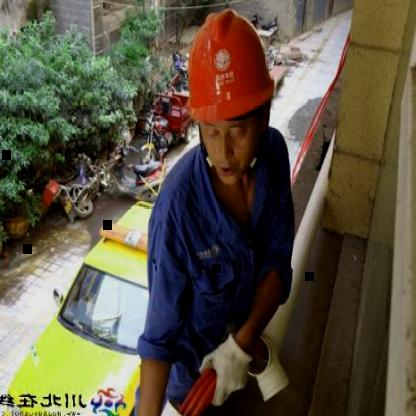helmet: (183, 0, 279, 133)
